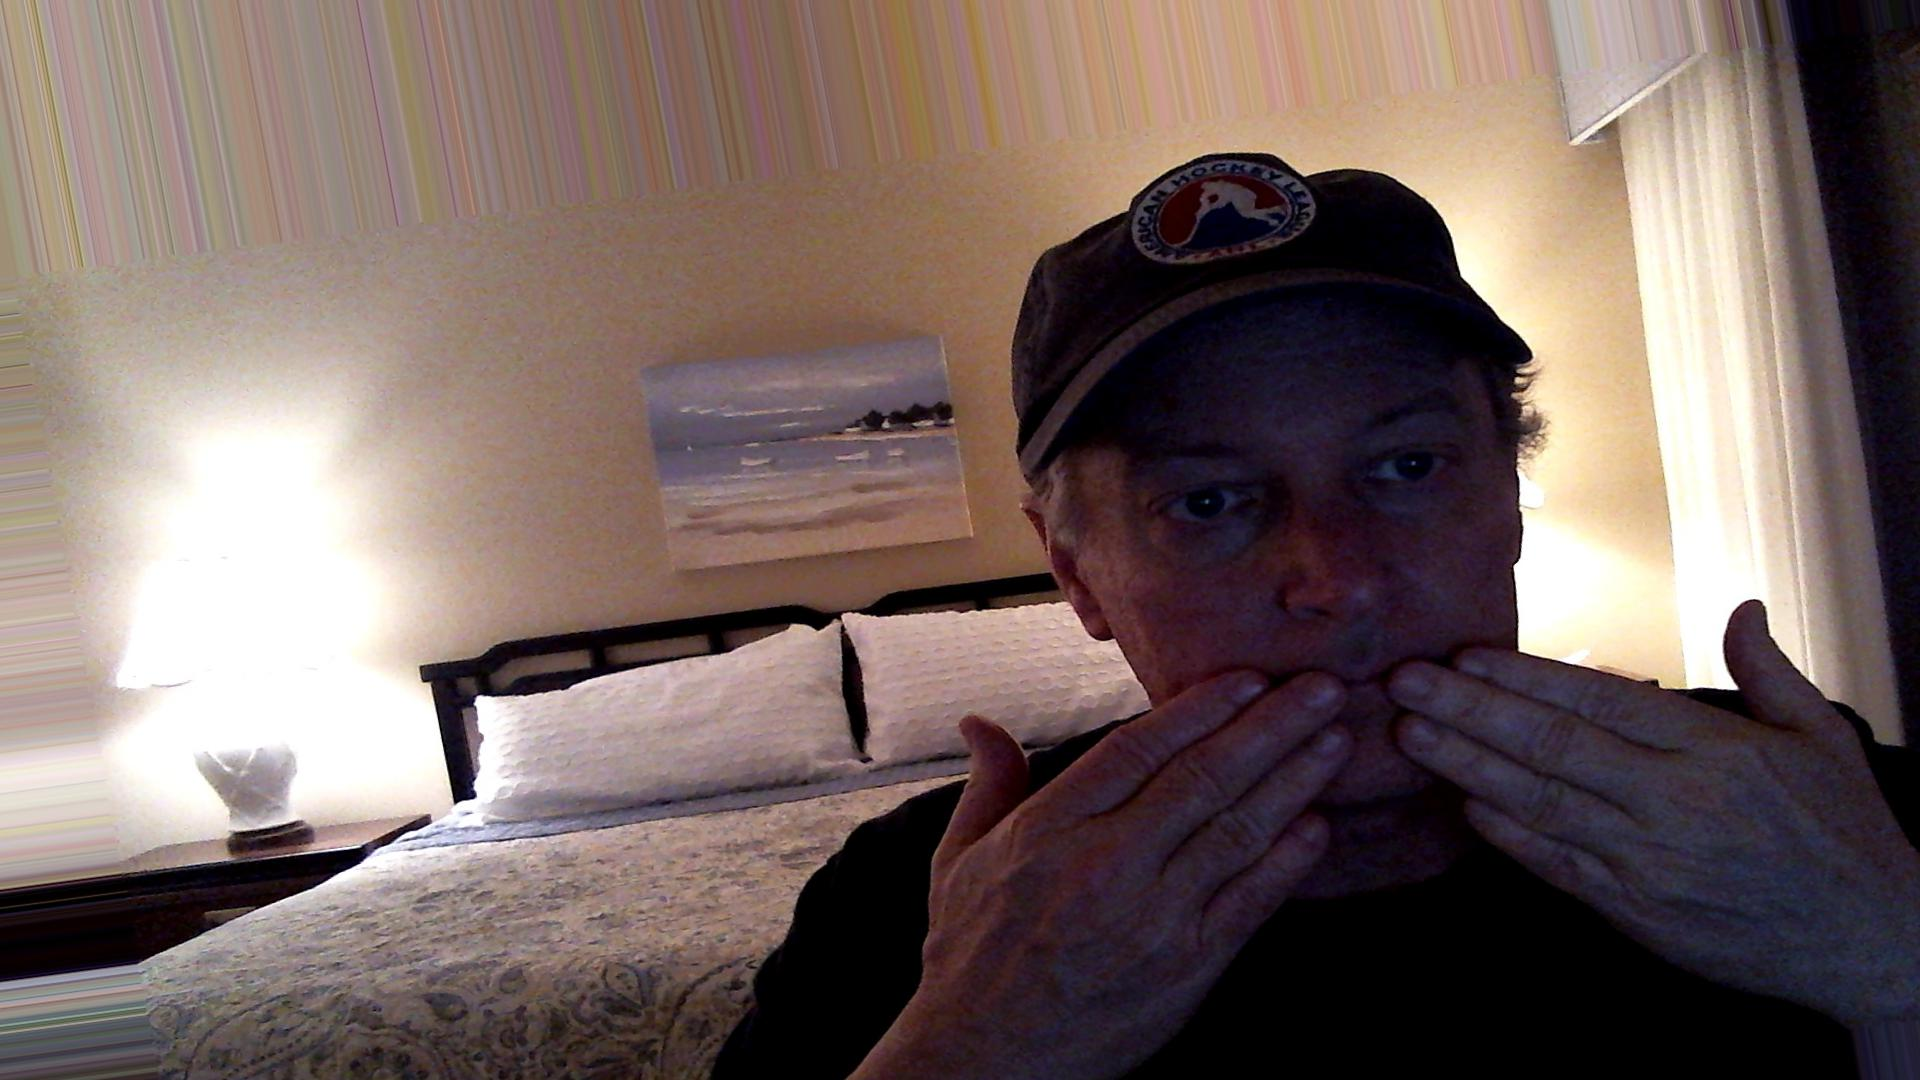Thank You: (847, 588, 1905, 1046)
